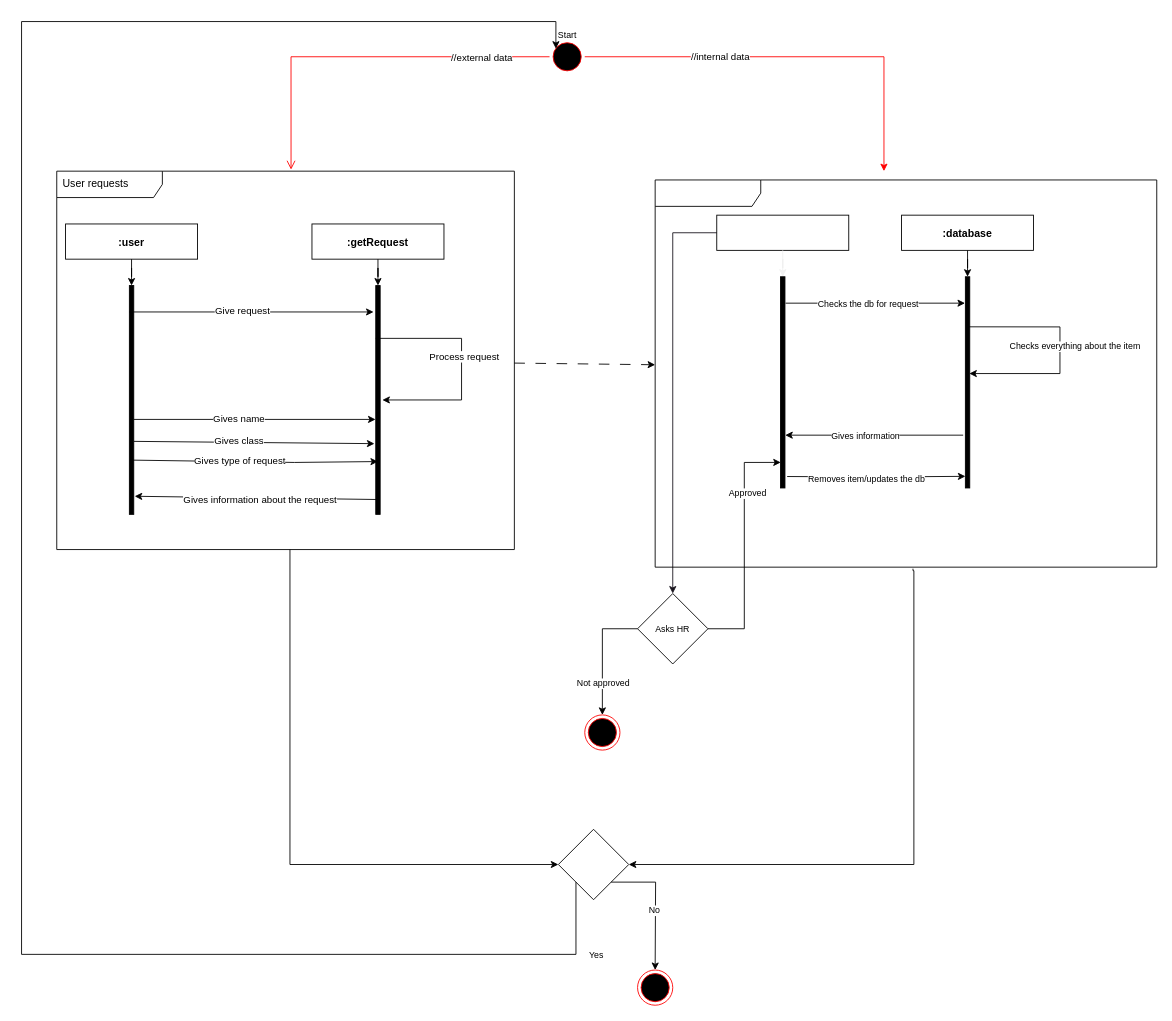
Image size: 1172x1021. Some labels were removed from this diagram. The box of each missing label's shape, as (x1, y1, x2, y2) in pixels:
:service/IT: (716, 214, 849, 250)
More requests: (557, 828, 629, 900)
Service/IT requests: (654, 179, 1157, 567)
